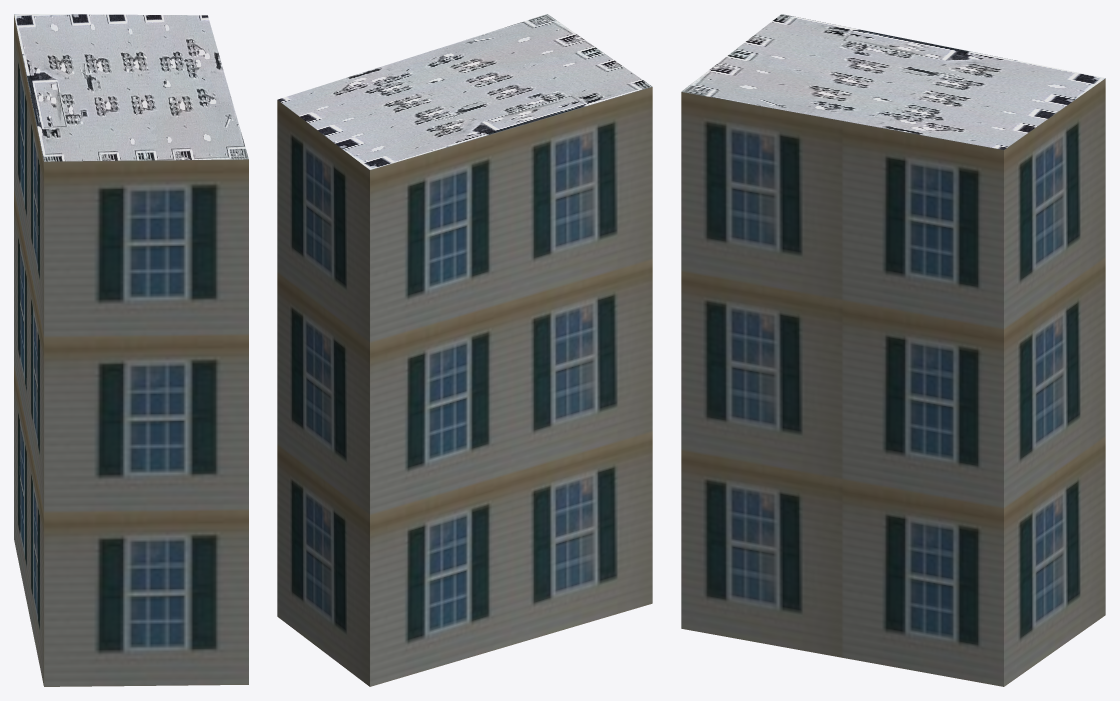
Rendered from ResTex__1914.fbx.
The picture shows the model from 3 angles, left to right: view 1: azimuth 30°, elevation 25°; view 2: azimuth 150°, elevation 25°; view 3: azimuth 270°, elevation 25°; orthographic projection. The views are drawn at different scales.
Parts seen in each view (by area): view 1: CityEngineMaterial_7_m, CityEngineMaterial_m; view 2: CityEngineMaterial_7_m, CityEngineMaterial_m; view 3: CityEngineMaterial_7_m, CityEngineMaterial_m.
Boxes of the visible parts, x1,y1,x2,y2 form: CityEngineMaterial_7_m: (14,15,248,686); CityEngineMaterial_m: (14,14,248,161); CityEngineMaterial_7_m: (277,87,652,686); CityEngineMaterial_m: (277,14,652,169); CityEngineMaterial_7_m: (681,78,1105,686); CityEngineMaterial_m: (681,14,1105,149).
Size of the model in its own units: 4.89 by 9 by 6.45.
2 materials, 2 textured.
